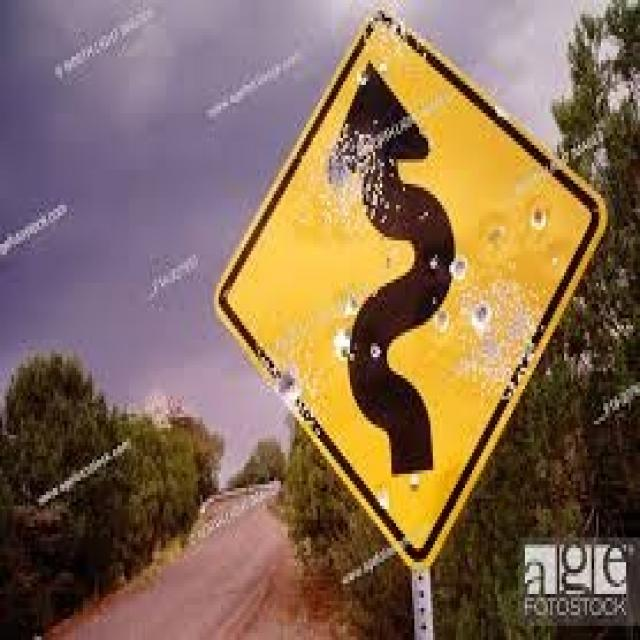left_sharp_curve: (209, 0, 605, 569)
